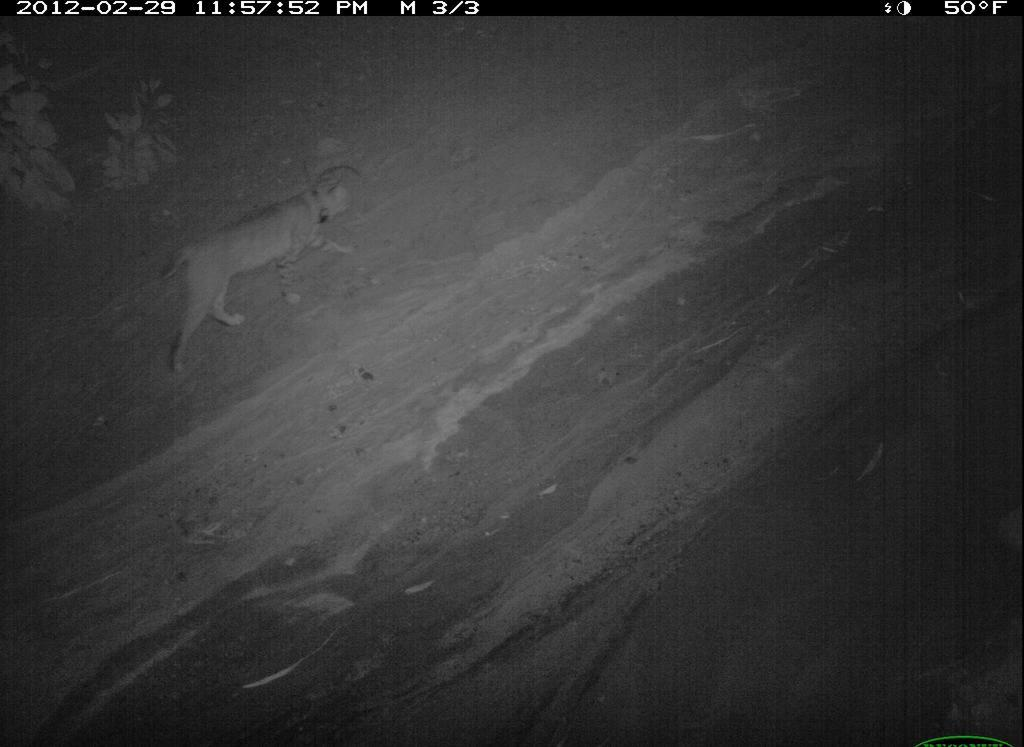bobcat: (300, 328, 723, 747)
